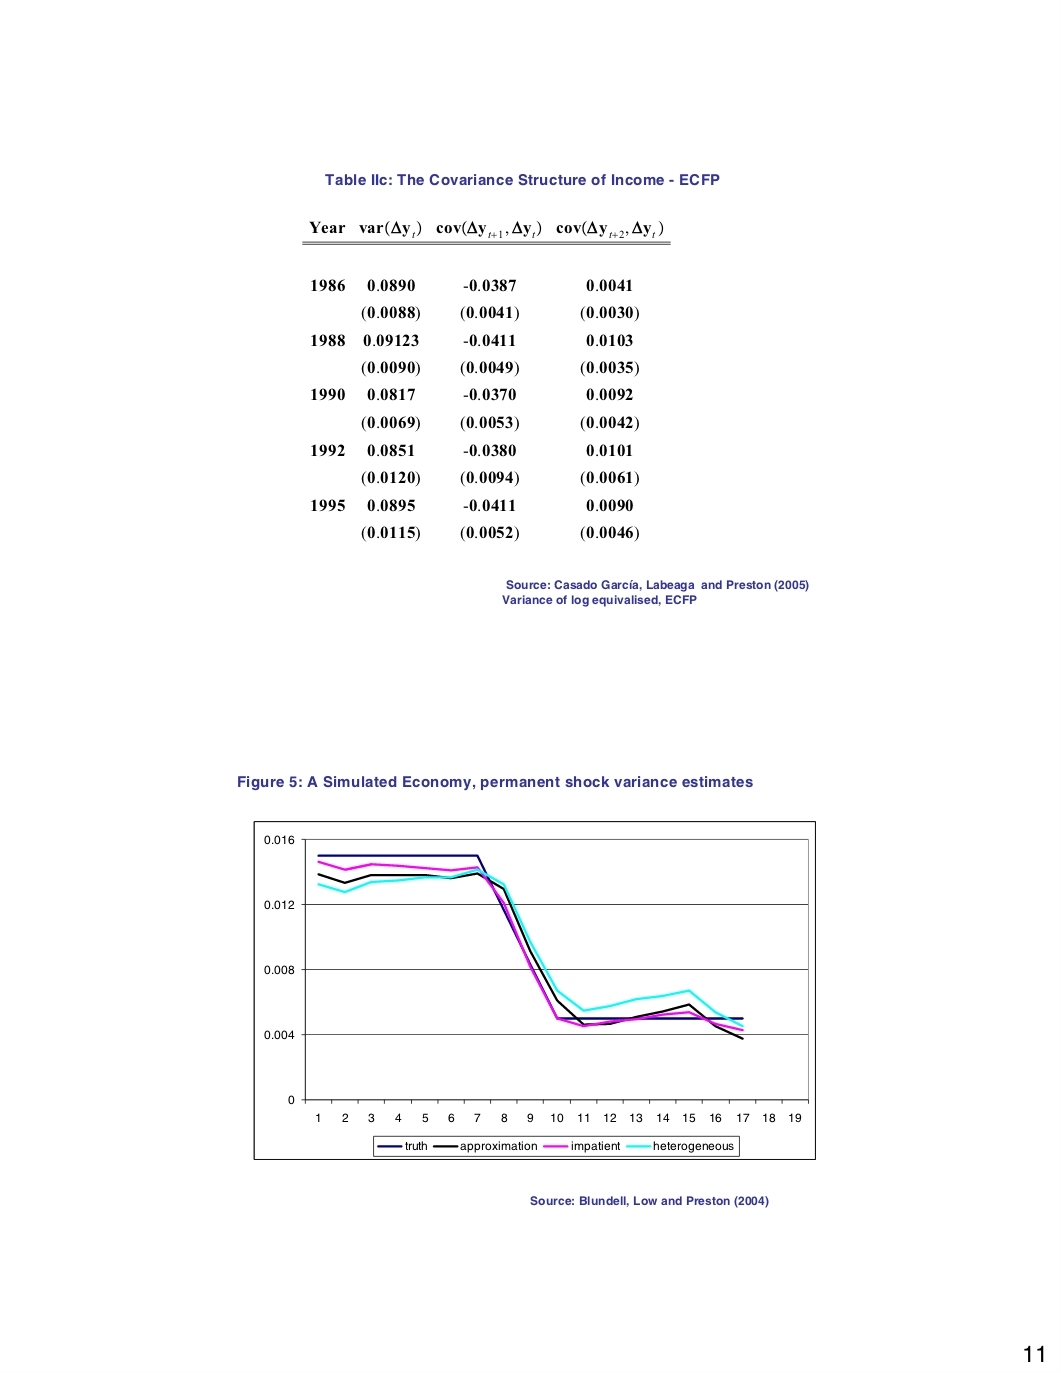Table: (302, 221, 670, 541)
figure: (253, 820, 815, 1160)
